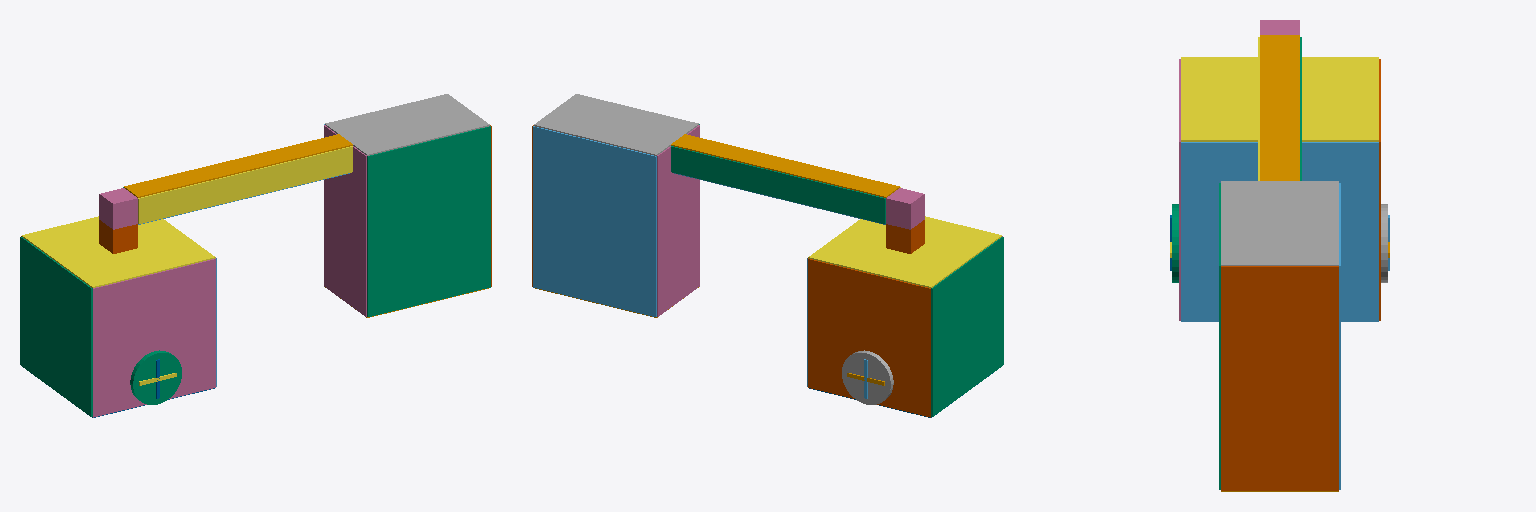
--- What the picture shows (computed from the rendered views, not written in the file) ---
The picture shows the robot from 3 angles, left to right: view 1: azimuth 30°, elevation 25°; view 2: azimuth 150°, elevation 25°; view 3: azimuth 270°, elevation 25°; orthographic projection.
Robot: robot — 36 links, 35 joints (4 continuous, 31 fixed); root link body; default pose: all joints at 0.
Visible links, largest first — view 1: hand_sensor_0_right, body_sensor_0_right, body_sensor_0_stop, body_sensor_0_top, hand_sensor_0_stop, arm_sensor_0_right, hand_sensor_0_top, arm_sensor_0_top, right_wheel, joint_2, joint_1; view 2: hand_sensor_0_left, body_sensor_0_left, body_sensor_0_stop, body_sensor_0_top, hand_sensor_0_stop, arm_sensor_0_left, hand_sensor_0_top, arm_sensor_0_top, left_wheel, joint_2, joint_1; view 3: hand_sensor_0_start, body_sensor_0_start, body_sensor_0_top, hand_sensor_0_top, arm_sensor_0_top, hand_sensor_0_left, hand_sensor_0_right, joint_2, left_wheel, right_wheel.
Boxes of the visible links, box(x1,y1,x2,y2) form: hand_sensor_0_right: box(367, 126, 490, 316); body_sensor_0_right: box(93, 258, 215, 417); body_sensor_0_stop: box(20, 237, 92, 416); body_sensor_0_top: box(22, 216, 215, 287); hand_sensor_0_stop: box(324, 125, 366, 316); arm_sensor_0_right: box(138, 146, 352, 223); hand_sensor_0_top: box(325, 94, 489, 155); arm_sensor_0_top: box(124, 134, 352, 197); right_wheel: box(130, 350, 181, 404); joint_2: box(99, 188, 137, 229); joint_1: box(99, 220, 137, 253); hand_sensor_0_left: box(533, 126, 656, 316); body_sensor_0_left: box(808, 258, 930, 417); body_sensor_0_stop: box(931, 237, 1003, 416); body_sensor_0_top: box(808, 216, 1001, 287); hand_sensor_0_stop: box(657, 125, 699, 316); arm_sensor_0_left: box(671, 146, 885, 223); hand_sensor_0_top: box(534, 94, 698, 155); arm_sensor_0_top: box(671, 134, 899, 197); left_wheel: box(842, 350, 893, 404); joint_2: box(886, 188, 924, 229); joint_1: box(886, 220, 924, 253); hand_sensor_0_start: box(1221, 266, 1338, 490); body_sensor_0_start: box(1181, 142, 1378, 321); body_sensor_0_top: box(1181, 57, 1378, 141); hand_sensor_0_top: box(1221, 181, 1338, 265); arm_sensor_0_top: box(1260, 35, 1299, 180); hand_sensor_0_left: box(1339, 183, 1340, 489); hand_sensor_0_right: box(1219, 183, 1220, 489); joint_2: box(1260, 20, 1299, 34); left_wheel: box(1381, 204, 1387, 282); right_wheel: box(1172, 204, 1178, 282).
Bounding box of the posed robot: 3.37 × 1.12 × 1.42 m (x, y, z).
Geometry: primitives only (box / cylinder / sphere), no mesh files.

URDF robot description (robot):
<?xml version="1.0"?>
    <robot name="robot">


    <!-- body -->
    <link name="body">
        <inertial>
            <origin xyz="0 0 0" rpy="0 0 0"/>
            <mass value="100"/>
            <inertia ixx="15" ixy="0" ixz="0" iyy="15" iyz="0" izz="15"/>
        </inertial>
        <visual>
            <origin xyz="0 0 0" rpy="0 0 0"/>
            <geometry>
                <box size="1 1 1"/>
            </geometry>
        </visual>
        <collision>
            <origin xyz="0 0 0" rpy="0 0 0"/>
            <geometry>
                <box size="1 1 1"/>
            </geometry>
        </collision>
    </link>


    <!-- body_sensor_0_start -->
    <link name="body_sensor_0_start">
        <inertial>
            <origin xyz="0 0 0" rpy="0 0 0"/>
            <mass value="0"/>
            <inertia ixx="0" ixy="0" ixz="0" iyy="0" iyz="0" izz="0"/>
        </inertial>
        <visual>
            <origin xyz="0 0 0" rpy="0 0 0"/>
            <geometry>
                <box size="0.02 1 1"/>
            </geometry>
        </visual>
        <collision>
            <origin xyz="0 0 0" rpy="0 0 0"/>
            <geometry>
                <box size="0.02 1 1"/>
            </geometry>
        </collision>
    </link>
    <!-- Joint: body, body_sensor_0_start -->
    <joint name="body_body_sensor_0_start_joint" type="fixed">
        <parent link="body"/>
        <child link="body_sensor_0_start"/>
        <origin xyz="0.5 0 0"
                rpy="0 0 0"/>
        <axis xyz="0 0 1"/>
        
    </joint>


    <!-- body_sensor_0_stop -->
    <link name="body_sensor_0_stop">
        <inertial>
            <origin xyz="0 0 0" rpy="0 0 0"/>
            <mass value="0"/>
            <inertia ixx="0" ixy="0" ixz="0" iyy="0" iyz="0" izz="0"/>
        </inertial>
        <visual>
            <origin xyz="0 0 0" rpy="0 0 0"/>
            <geometry>
                <box size="0.02 1 1"/>
            </geometry>
        </visual>
        <collision>
            <origin xyz="0 0 0" rpy="0 0 0"/>
            <geometry>
                <box size="0.02 1 1"/>
            </geometry>
        </collision>
    </link>
    <!-- Joint: body, body_sensor_0_stop -->
    <joint name="body_body_sensor_0_stop_joint" type="fixed">
        <parent link="body"/>
        <child link="body_sensor_0_stop"/>
        <origin xyz="-0.5 0 0"
                rpy="0 0 0"/>
        <axis xyz="0 0 1"/>
        
    </joint>


    <!-- body_sensor_0_top -->
    <link name="body_sensor_0_top">
        <inertial>
            <origin xyz="0 0 0" rpy="0 0 0"/>
            <mass value="0"/>
            <inertia ixx="0" ixy="0" ixz="0" iyy="0" iyz="0" izz="0"/>
        </inertial>
        <visual>
            <origin xyz="0 0 0" rpy="0 0 0"/>
            <geometry>
                <box size="1.0 1 0.02"/>
            </geometry>
        </visual>
        <collision>
            <origin xyz="0 0 0" rpy="0 0 0"/>
            <geometry>
                <box size="1.0 1 0.02"/>
            </geometry>
        </collision>
    </link>
    <!-- Joint: body, body_sensor_0_top -->
    <joint name="body_body_sensor_0_top_joint" type="fixed">
        <parent link="body"/>
        <child link="body_sensor_0_top"/>
        <origin xyz="0 0 0.5"
                rpy="0 0 0"/>
        <axis xyz="0 0 1"/>
        
    </joint>


    <!-- body_sensor_0_bottom -->
    <link name="body_sensor_0_bottom">
        <inertial>
            <origin xyz="0 0 0" rpy="0 0 0"/>
            <mass value="0"/>
            <inertia ixx="0" ixy="0" ixz="0" iyy="0" iyz="0" izz="0"/>
        </inertial>
        <visual>
            <origin xyz="0 0 0" rpy="0 0 0"/>
            <geometry>
                <box size="1.0 1 0.02"/>
            </geometry>
        </visual>
        <collision>
            <origin xyz="0 0 0" rpy="0 0 0"/>
            <geometry>
                <box size="1.0 1 0.02"/>
            </geometry>
        </collision>
    </link>
    <!-- Joint: body, body_sensor_0_bottom -->
    <joint name="body_body_sensor_0_bottom_joint" type="fixed">
        <parent link="body"/>
        <child link="body_sensor_0_bottom"/>
        <origin xyz="0 0 -0.5"
                rpy="0 0 0"/>
        <axis xyz="0 0 1"/>
        
    </joint>


    <!-- body_sensor_0_left -->
    <link name="body_sensor_0_left">
        <inertial>
            <origin xyz="0 0 0" rpy="0 0 0"/>
            <mass value="0"/>
            <inertia ixx="0" ixy="0" ixz="0" iyy="0" iyz="0" izz="0"/>
        </inertial>
        <visual>
            <origin xyz="0 0 0" rpy="0 0 0"/>
            <geometry>
                <box size="1.0 0.02 1"/>
            </geometry>
        </visual>
        <collision>
            <origin xyz="0 0 0" rpy="0 0 0"/>
            <geometry>
                <box size="1.0 0.02 1"/>
            </geometry>
        </collision>
    </link>
    <!-- Joint: body, body_sensor_0_left -->
    <joint name="body_body_sensor_0_left_joint" type="fixed">
        <parent link="body"/>
        <child link="body_sensor_0_left"/>
        <origin xyz="0 0.5 0"
                rpy="0 0 0"/>
        <axis xyz="0 0 1"/>
        
    </joint>


    <!-- body_sensor_0_right -->
    <link name="body_sensor_0_right">
        <inertial>
            <origin xyz="0 0 0" rpy="0 0 0"/>
            <mass value="0"/>
            <inertia ixx="0" ixy="0" ixz="0" iyy="0" iyz="0" izz="0"/>
        </inertial>
        <visual>
            <origin xyz="0 0 0" rpy="0 0 0"/>
            <geometry>
                <box size="1.0 0.02 1"/>
            </geometry>
        </visual>
        <collision>
            <origin xyz="0 0 0" rpy="0 0 0"/>
            <geometry>
                <box size="1.0 0.02 1"/>
            </geometry>
        </collision>
    </link>
    <!-- Joint: body, body_sensor_0_right -->
    <joint name="body_body_sensor_0_right_joint" type="fixed">
        <parent link="body"/>
        <child link="body_sensor_0_right"/>
        <origin xyz="0 -0.5 0"
                rpy="0 0 0"/>
        <axis xyz="0 0 1"/>
        
    </joint>


    <!-- left_wheel -->
    <link name="left_wheel">
        <inertial>
            <origin xyz="0 0 0" rpy="0 0 0"/>
            <mass value="0"/>
            <inertia ixx="0" ixy="0" ixz="0" iyy="0" iyz="0" izz="0"/>
        </inertial>
        <visual>
            <origin xyz="0 0 0" rpy="0 0 0"/>
            <geometry>
                <cylinder radius="0.2" length="0.1"/>
            </geometry>
        </visual>
        <collision>
            <origin xyz="0 0 0" rpy="0 0 0"/>
            <geometry>
                <cylinder radius="0.2" length="0.1"/>
            </geometry>
        </collision>
    </link>
    <!-- Joint: body, left_wheel -->
    <joint name="body_left_wheel_joint" type="continuous">
        <parent link="body"/>
        <child link="left_wheel"/>
        <origin xyz="0 0.5 -0.3"
                rpy="1.5708 0 0"/>
        <axis xyz="0 0 1"/>
        <limit lower="0" upper="0" effort="0" velocity="0"/>
    </joint>


    <!-- left_spoke_1 -->
    <link name="left_spoke_1">
        <inertial>
            <origin xyz="0 0 0" rpy="0 0 0"/>
            <mass value="0"/>
            <inertia ixx="0" ixy="0" ixz="0" iyy="0" iyz="0" izz="0"/>
        </inertial>
        <visual>
            <origin xyz="0 0 0" rpy="0 0 0"/>
            <geometry>
                <box size="0.3 0.03 0.1"/>
            </geometry>
        </visual>
        <collision>
            <origin xyz="0 0 0" rpy="0 0 0"/>
            <geometry>
                <box size="0.3 0.03 0.1"/>
            </geometry>
        </collision>
    </link>
    <!-- Joint: left_wheel, left_spoke_1 -->
    <joint name="left_wheel_left_spoke_1_joint" type="fixed">
        <parent link="left_wheel"/>
        <child link="left_spoke_1"/>
        <origin xyz="0 0 -0.01"
                rpy="0 0 0"/>
        <axis xyz="0 0 1"/>
        
    </joint>


    <!-- left_spoke_2 -->
    <link name="left_spoke_2">
        <inertial>
            <origin xyz="0 0 0" rpy="0 0 0"/>
            <mass value="0"/>
            <inertia ixx="0" ixy="0" ixz="0" iyy="0" iyz="0" izz="0"/>
        </inertial>
        <visual>
            <origin xyz="0 0 0" rpy="0 0 0"/>
            <geometry>
                <box size="0.03 0.3 0.1"/>
            </geometry>
        </visual>
        <collision>
            <origin xyz="0 0 0" rpy="0 0 0"/>
            <geometry>
                <box size="0.03 0.3 0.1"/>
            </geometry>
        </collision>
    </link>
    <!-- Joint: left_wheel, left_spoke_2 -->
    <joint name="left_wheel_left_spoke_2_joint" type="fixed">
        <parent link="left_wheel"/>
        <child link="left_spoke_2"/>
        <origin xyz="0 0 -0.01"
                rpy="0 0 0"/>
        <axis xyz="0 0 1"/>
        
    </joint>


    <!-- right_wheel -->
    <link name="right_wheel">
        <inertial>
            <origin xyz="0 0 0" rpy="0 0 0"/>
            <mass value="0"/>
            <inertia ixx="0" ixy="0" ixz="0" iyy="0" iyz="0" izz="0"/>
        </inertial>
        <visual>
            <origin xyz="0 0 0" rpy="0 0 0"/>
            <geometry>
                <cylinder radius="0.2" length="0.1"/>
            </geometry>
        </visual>
        <collision>
            <origin xyz="0 0 0" rpy="0 0 0"/>
            <geometry>
                <cylinder radius="0.2" length="0.1"/>
            </geometry>
        </collision>
    </link>
    <!-- Joint: body, right_wheel -->
    <joint name="body_right_wheel_joint" type="continuous">
        <parent link="body"/>
        <child link="right_wheel"/>
        <origin xyz="0 -0.5 -0.3"
                rpy="1.5708 0 0"/>
        <axis xyz="0 0 1"/>
        <limit lower="0" upper="0" effort="0" velocity="0"/>
    </joint>


    <!-- right_spoke_1 -->
    <link name="right_spoke_1">
        <inertial>
            <origin xyz="0 0 0" rpy="0 0 0"/>
            <mass value="0"/>
            <inertia ixx="0" ixy="0" ixz="0" iyy="0" iyz="0" izz="0"/>
        </inertial>
        <visual>
            <origin xyz="0 0 0" rpy="0 0 0"/>
            <geometry>
                <box size="0.3 0.03 0.1"/>
            </geometry>
        </visual>
        <collision>
            <origin xyz="0 0 0" rpy="0 0 0"/>
            <geometry>
                <box size="0.3 0.03 0.1"/>
            </geometry>
        </collision>
    </link>
    <!-- Joint: right_wheel, right_spoke_1 -->
    <joint name="right_wheel_right_spoke_1_joint" type="fixed">
        <parent link="right_wheel"/>
        <child link="right_spoke_1"/>
        <origin xyz="0 0 0.01"
                rpy="0 0 0"/>
        <axis xyz="0 0 1"/>
        
    </joint>


    <!-- right_spoke_2 -->
    <link name="right_spoke_2">
        <inertial>
            <origin xyz="0 0 0" rpy="0 0 0"/>
            <mass value="0"/>
            <inertia ixx="0" ixy="0" ixz="0" iyy="0" iyz="0" izz="0"/>
        </inertial>
        <visual>
            <origin xyz="0 0 0" rpy="0 0 0"/>
            <geometry>
                <box size="0.03 0.3 0.1"/>
            </geometry>
        </visual>
        <collision>
            <origin xyz="0 0 0" rpy="0 0 0"/>
            <geometry>
                <box size="0.03 0.3 0.1"/>
            </geometry>
        </collision>
    </link>
    <!-- Joint: right_wheel, right_spoke_2 -->
    <joint name="right_wheel_right_spoke_2_joint" type="fixed">
        <parent link="right_wheel"/>
        <child link="right_spoke_2"/>
        <origin xyz="0 0 0.01"
                rpy="0 0 0"/>
        <axis xyz="0 0 1"/>
        
    </joint>


    <!-- joint_1 -->
    <link name="joint_1">
        <inertial>
            <origin xyz="0 0 0" rpy="0 0 0"/>
            <mass value="2"/>
            <inertia ixx="0.01" ixy="0" ixz="0" iyy="0.01" iyz="0" izz="0.01"/>
        </inertial>
        <visual>
            <origin xyz="0 0 0" rpy="0 0 0"/>
            <geometry>
                <box size="0.2 0.2 0.2"/>
            </geometry>
        </visual>
        <collision>
            <origin xyz="0 0 0" rpy="0 0 0"/>
            <geometry>
                <box size="0.2 0.2 0.2"/>
            </geometry>
        </collision>
    </link>
    <!-- Joint: body, joint_1 -->
    <joint name="body_joint_1_joint" type="continuous">
        <parent link="body"/>
        <child link="joint_1"/>
        <origin xyz="0 0 0.6"
                rpy="0 0 0"/>
        <axis xyz="0 0 1"/>
        <limit lower="-0.7853981633974483" upper="0.7853981633974483" effort="999" velocity="999"/>
    </joint>


    <!-- joint_2 -->
    <link name="joint_2">
        <inertial>
            <origin xyz="0 0 0" rpy="0 0 0"/>
            <mass value="2"/>
            <inertia ixx="0.01" ixy="0" ixz="0" iyy="0.01" iyz="0" izz="0.01"/>
        </inertial>
        <visual>
            <origin xyz="0 0 0" rpy="0 0 0"/>
            <geometry>
                <box size="0.2 0.2 0.2"/>
            </geometry>
        </visual>
        <collision>
            <origin xyz="0 0 0" rpy="0 0 0"/>
            <geometry>
                <box size="0.2 0.2 0.2"/>
            </geometry>
        </collision>
    </link>
    <!-- Joint: joint_1, joint_2 -->
    <joint name="joint_1_joint_2_joint" type="continuous">
        <parent link="joint_1"/>
        <child link="joint_2"/>
        <origin xyz="0 0 0.2"
                rpy="0 0 0"/>
        <axis xyz="0 1 0"/>
        <limit lower="-1.5707963267948966" upper="0" effort="999" velocity="999"/>
    </joint>


    <!-- arm -->
    <link name="arm">
        <inertial>
            <origin xyz="0 0 0" rpy="0 0 0"/>
            <mass value="2"/>
            <inertia ixx="0.01" ixy="0" ixz="0" iyy="1.25" iyz="0" izz="1.25"/>
        </inertial>
        <visual>
            <origin xyz="0 0 0" rpy="0 0 0"/>
            <geometry>
                <box size="1.75 0.2 0.2"/>
            </geometry>
        </visual>
        <collision>
            <origin xyz="0 0 0" rpy="0 0 0"/>
            <geometry>
                <box size="1.75 0.2 0.2"/>
            </geometry>
        </collision>
    </link>


    <!-- arm_sensor_0_top -->
    <link name="arm_sensor_0_top">
        <inertial>
            <origin xyz="0 0 0" rpy="0 0 0"/>
            <mass value="0"/>
            <inertia ixx="0" ixy="0" ixz="0" iyy="0" iyz="0" izz="0"/>
        </inertial>
        <visual>
            <origin xyz="0 0 0" rpy="0 0 0"/>
            <geometry>
                <box size="1.75 0.2 0.02"/>
            </geometry>
        </visual>
        <collision>
            <origin xyz="0 0 0" rpy="0 0 0"/>
            <geometry>
                <box size="1.75 0.2 0.02"/>
            </geometry>
        </collision>
    </link>
    <!-- Joint: arm, arm_sensor_0_top -->
    <joint name="arm_arm_sensor_0_top_joint" type="fixed">
        <parent link="arm"/>
        <child link="arm_sensor_0_top"/>
        <origin xyz="0 0 0.1"
                rpy="0 0 0"/>
        <axis xyz="0 1 0"/>
        
    </joint>


    <!-- arm_sensor_0_bottom -->
    <link name="arm_sensor_0_bottom">
        <inertial>
            <origin xyz="0 0 0" rpy="0 0 0"/>
            <mass value="0"/>
            <inertia ixx="0" ixy="0" ixz="0" iyy="0" iyz="0" izz="0"/>
        </inertial>
        <visual>
            <origin xyz="0 0 0" rpy="0 0 0"/>
            <geometry>
                <box size="1.75 0.2 0.02"/>
            </geometry>
        </visual>
        <collision>
            <origin xyz="0 0 0" rpy="0 0 0"/>
            <geometry>
                <box size="1.75 0.2 0.02"/>
            </geometry>
        </collision>
    </link>
    <!-- Joint: arm, arm_sensor_0_bottom -->
    <joint name="arm_arm_sensor_0_bottom_joint" type="fixed">
        <parent link="arm"/>
        <child link="arm_sensor_0_bottom"/>
        <origin xyz="0 0 -0.1"
                rpy="0 0 0"/>
        <axis xyz="0 1 0"/>
        
    </joint>


    <!-- arm_sensor_0_left -->
    <link name="arm_sensor_0_left">
        <inertial>
            <origin xyz="0 0 0" rpy="0 0 0"/>
            <mass value="0"/>
            <inertia ixx="0" ixy="0" ixz="0" iyy="0" iyz="0" izz="0"/>
        </inertial>
        <visual>
            <origin xyz="0 0 0" rpy="0 0 0"/>
            <geometry>
                <box size="1.75 0.02 0.2"/>
            </geometry>
        </visual>
        <collision>
            <origin xyz="0 0 0" rpy="0 0 0"/>
            <geometry>
                <box size="1.75 0.02 0.2"/>
            </geometry>
        </collision>
    </link>
    <!-- Joint: arm, arm_sensor_0_left -->
    <joint name="arm_arm_sensor_0_left_joint" type="fixed">
        <parent link="arm"/>
        <child link="arm_sensor_0_left"/>
        <origin xyz="0 0.1 0"
                rpy="0 0 0"/>
        <axis xyz="0 1 0"/>
        
    </joint>


    <!-- arm_sensor_0_right -->
    <link name="arm_sensor_0_right">
        <inertial>
            <origin xyz="0 0 0" rpy="0 0 0"/>
            <mass value="0"/>
            <inertia ixx="0" ixy="0" ixz="0" iyy="0" iyz="0" izz="0"/>
        </inertial>
        <visual>
            <origin xyz="0 0 0" rpy="0 0 0"/>
            <geometry>
                <box size="1.75 0.02 0.2"/>
            </geometry>
        </visual>
        <collision>
            <origin xyz="0 0 0" rpy="0 0 0"/>
            <geometry>
                <box size="1.75 0.02 0.2"/>
            </geometry>
        </collision>
    </link>
    <!-- Joint: arm, arm_sensor_0_right -->
    <joint name="arm_arm_sensor_0_right_joint" type="fixed">
        <parent link="arm"/>
        <child link="arm_sensor_0_right"/>
        <origin xyz="0 -0.1 0"
                rpy="0 0 0"/>
        <axis xyz="0 1 0"/>
        
    </joint>
    <!-- Joint: joint_2, arm -->
    <joint name="joint_2_arm_joint" type="fixed">
        <parent link="joint_2"/>
        <child link="arm"/>
        <origin xyz="0.975 0 0"
                rpy="0 0 0"/>
        <axis xyz="0 1 0"/>
        
    </joint>


    <!-- hand -->
    <link name="hand">
        <inertial>
            <origin xyz="0 0 0" rpy="0 0 0"/>
            <mass value="2"/>
            <inertia ixx="0.05" ixy="0.05" ixz="0.05" iyy="0.05" iyz="0.05" izz="0.05"/>
        </inertial>
        <visual>
            <origin xyz="0 0 0" rpy="0 0 0"/>
            <geometry>
                <box size="1 0.6000000000000001 1.25"/>
            </geometry>
        </visual>
        <collision>
            <origin xyz="0 0 0" rpy="0 0 0"/>
            <geometry>
                <box size="1 0.6000000000000001 1.25"/>
            </geometry>
        </collision>
    </link>


    <!-- hand_sensor_0_start -->
    <link name="hand_sensor_0_start">
        <inertial>
            <origin xyz="0 0 0" rpy="0 0 0"/>
            <mass value="0"/>
            <inertia ixx="0" ixy="0" ixz="0" iyy="0" iyz="0" izz="0"/>
        </inertial>
        <visual>
            <origin xyz="0 0 0" rpy="0 0 0"/>
            <geometry>
                <box size="0.02 0.6000000000000001 1.25"/>
            </geometry>
        </visual>
        <collision>
            <origin xyz="0 0 0" rpy="0 0 0"/>
            <geometry>
                <box size="0.02 0.6000000000000001 1.25"/>
            </geometry>
        </collision>
    </link>
    <!-- Joint: hand, hand_sensor_0_start -->
    <joint name="hand_hand_sensor_0_start_joint" type="fixed">
        <parent link="hand"/>
        <child link="hand_sensor_0_start"/>
        <origin xyz="0.5 0 0"
                rpy="0 0 0"/>
        <axis xyz="0 1 0"/>
        
    </joint>


    <!-- hand_sensor_0_stop -->
    <link name="hand_sensor_0_stop">
        <inertial>
            <origin xyz="0 0 0" rpy="0 0 0"/>
            <mass value="0"/>
            <inertia ixx="0" ixy="0" ixz="0" iyy="0" iyz="0" izz="0"/>
        </inertial>
        <visual>
            <origin xyz="0 0 0" rpy="0 0 0"/>
            <geometry>
                <box size="0.02 0.6000000000000001 1.25"/>
            </geometry>
        </visual>
        <collision>
            <origin xyz="0 0 0" rpy="0 0 0"/>
            <geometry>
                <box size="0.02 0.6000000000000001 1.25"/>
            </geometry>
        </collision>
    </link>
    <!-- Joint: hand, hand_sensor_0_stop -->
    <joint name="hand_hand_sensor_0_stop_joint" type="fixed">
        <parent link="hand"/>
        <child link="hand_sensor_0_stop"/>
        <origin xyz="-0.5 0 0"
                rpy="0 0 0"/>
        <axis xyz="0 1 0"/>
        
    </joint>


    <!-- hand_sensor_0_top -->
    <link name="hand_sensor_0_top">
        <inertial>
            <origin xyz="0 0 0" rpy="0 0 0"/>
            <mass value="0"/>
            <inertia ixx="0" ixy="0" ixz="0" iyy="0" iyz="0" izz="0"/>
        </inertial>
        <visual>
            <origin xyz="0 0 0" rpy="0 0 0"/>
            <geometry>
                <box size="1.0 0.6000000000000001 0.02"/>
            </geometry>
        </visual>
        <collision>
            <origin xyz="0 0 0" rpy="0 0 0"/>
            <geometry>
                <box size="1.0 0.6000000000000001 0.02"/>
            </geometry>
        </collision>
    </link>
    <!-- Joint: hand, hand_sensor_0_top -->
    <joint name="hand_hand_sensor_0_top_joint" type="fixed">
        <parent link="hand"/>
        <child link="hand_sensor_0_top"/>
        <origin xyz="0 0 0.625"
                rpy="0 0 0"/>
        <axis xyz="0 1 0"/>
        
    </joint>


    <!-- hand_sensor_0_bottom -->
    <link name="hand_sensor_0_bottom">
        <inertial>
            <origin xyz="0 0 0" rpy="0 0 0"/>
            <mass value="0"/>
            <inertia ixx="0" ixy="0" ixz="0" iyy="0" iyz="0" izz="0"/>
        </inertial>
        <visual>
            <origin xyz="0 0 0" rpy="0 0 0"/>
            <geometry>
                <box size="1.0 0.6000000000000001 0.02"/>
            </geometry>
        </visual>
        <collision>
            <origin xyz="0 0 0" rpy="0 0 0"/>
            <geometry>
                <box size="1.0 0.6000000000000001 0.02"/>
            </geometry>
        </collision>
    </link>
    <!-- Joint: hand, hand_sensor_0_bottom -->
    <joint name="hand_hand_sensor_0_bottom_joint" type="fixed">
        <parent link="hand"/>
        <child link="hand_sensor_0_bottom"/>
        <origin xyz="0 0 -0.625"
                rpy="0 0 0"/>
        <axis xyz="0 1 0"/>
        
    </joint>


    <!-- hand_sensor_0_left -->
    <link name="hand_sensor_0_left">
        <inertial>
            <origin xyz="0 0 0" rpy="0 0 0"/>
            <mass value="0"/>
            <inertia ixx="0" ixy="0" ixz="0" iyy="0" iyz="0" izz="0"/>
        </inertial>
        <visual>
            <origin xyz="0 0 0" rpy="0 0 0"/>
            <geometry>
                <box size="1.0 0.02 1.25"/>
            </geometry>
        </visual>
        <collision>
            <origin xyz="0 0 0" rpy="0 0 0"/>
            <geometry>
                <box size="1.0 0.02 1.25"/>
            </geometry>
        </collision>
    </link>
    <!-- Joint: hand, hand_sensor_0_left -->
    <joint name="hand_hand_sensor_0_left_joint" type="fixed">
        <parent link="hand"/>
        <child link="hand_sensor_0_left"/>
        <origin xyz="0 0.30000000000000004 0"
                rpy="0 0 0"/>
        <axis xyz="0 1 0"/>
        
    </joint>


    <!-- hand_sensor_0_right -->
    <link name="hand_sensor_0_right">
        <inertial>
            <origin xyz="0 0 0" rpy="0 0 0"/>
            <mass value="0"/>
            <inertia ixx="0" ixy="0" ixz="0" iyy="0" iyz="0" izz="0"/>
        </inertial>
        <visual>
            <origin xyz="0 0 0" rpy="0 0 0"/>
            <geometry>
                <box size="1.0 0.02 1.25"/>
            </geometry>
        </visual>
        <collision>
            <origin xyz="0 0 0" rpy="0 0 0"/>
            <geometry>
                <box size="1.0 0.02 1.25"/>
            </geometry>
        </collision>
    </link>
    <!-- Joint: hand, hand_sensor_0_right -->
    <joint name="hand_hand_sensor_0_right_joint" type="fixed">
        <parent link="hand"/>
        <child link="hand_sensor_0_right"/>
        <origin xyz="0 -0.30000000000000004 0"
                rpy="0 0 0"/>
        <axis xyz="0 1 0"/>
        
    </joint>
    <!-- Joint: arm, hand -->
    <joint name="arm_hand_joint" type="fixed">
        <parent link="arm"/>
        <child link="hand"/>
        <origin xyz="1.375 0 -0.525"
                rpy="0 0 0"/>
        <axis xyz="0 1 0"/>
        
    </joint>


    <!-- body_face_front_0 -->
    <link name="body_face_front_0">
        <inertial>
            <origin xyz="0 0 0" rpy="0 0 0"/>
            <mass value="0"/>
            <inertia ixx="0.05" ixy="0.05" ixz="0.05" iyy="0.05" iyz="0.05" izz="0.05"/>
        </inertial>
        <visual>
            <origin xyz="0 0 0" rpy="0 0 0"/>
            <geometry>
                <box size="0.002 0.1111111111111111 0.1111111111111111"/>
            </geometry>
        </visual>
        <collision>
            <origin xyz="0 0 0" rpy="0 0 0"/>
            <geometry>
                <box size="0.002 0.1111111111111111 0.1111111111111111"/>
            </geometry>
        </collision>
    </link>
    <!-- Joint: body, body_face_front_0 -->
    <joint name="body_body_face_front_0_joint" type="fixed">
        <parent link="body"/>
        <child link="body_face_front_0"/>
        <origin xyz="0.501 -0.33333333333333337 0.11111111111111116"
                rpy="0 0 0"/>
        <axis xyz="0 0 1"/>
        
    </joint>


    <!-- body_face_front_1 -->
    <link name="body_face_front_1">
        <inertial>
            <origin xyz="0 0 0" rpy="0 0 0"/>
            <mass value="0"/>
            <inertia ixx="0.05" ixy="0.05" ixz="0.05" iyy="0.05" iyz="0.05" izz="0.05"/>
        </inertial>
        <visual>
            <origin xyz="0 0 0" rpy="0 0 0"/>
            <geometry>
                <box size="0.002 0.1111111111111111 0.1111111111111111"/>
            </geometry>
        </visual>
        <collision>
            <origin xyz="0 0 0" rpy="0 0 0"/>
            <geometry>
                <box size="0.002 0.1111111111111111 0.1111111111111111"/>
            </geometry>
        </collision>
    </link>
    <!-- Joint: body, body_face_front_1 -->
    <joint name="body_body_face_front_1_joint" type="fixed">
        <parent link="body"/>
        <child link="body_face_front_1"/>
        <origin xyz="0.501 -0.2222222222222222 0.2222222222222222"
                rpy="0 0 0"/>
        <axis xyz="0 0 1"/>
        
    </joint>


    <!-- body_face_front_2 -->
    <link name="body_face_front_2">
        <inertial>
            <origin xyz="0 0 0" rpy="0 0 0"/>
            <mass value="0"/>
            <inertia ixx="0.05" ixy="0.05" ixz="0.05" iyy="0.05" iyz="0.05" izz="0.05"/>
        </inertial>
        <visual>
            <origin xyz="0 0 0" rpy="0 0 0"/>
            <geometry>
                <box size="0.002 0.1111111111111111 0.1111111111111111"/>
            </geometry>
        </visual>
        <collision>
            <origin xyz="0 0 0" rpy="0 0 0"/>
            <geometry>
                <box size="0.002 0.1111111111111111 0.1111111111111111"/>
            </geometry>
        </collision>
    </link>
    <!-- Joint: body, body_face_front_2 -->
    <joint name="body_body_face_front_2_joint" type="fixed">
        <parent link="body"/>
        <child link="body_face_front_2"/>
        <origin xyz="0.501 -0.1111111111111111 0.11111111111111116"
                rpy="0 0 0"/>
        <axis xyz="0 0 1"/>
        
    </joint>


    <!-- body_face_front_3 -->
    <link name="body_face_front_3">
        <inertial>
            <origin xyz="0 0 0" rpy="0 0 0"/>
            <mass value="0"/>
            <inertia ixx="0.05" ixy="0.05" ixz="0.05" iyy="0.05" iyz="0.05" izz="0.05"/>
        </inertial>
        <visual>
            <origin xyz="0 0 0" rpy="0 0 0"/>
            <geometry>
                <box size="0.002 0.1111111111111111 0.1111111111111111"/>
            </geometry>
        </visual>
        <collision>
            <origin xyz="0 0 0" rpy="0 0 0"/>
            <geometry>
                <box size="0.002 0.1111111111111111 0.1111111111111111"/>
            </geometry>
        </collision>
    </link>
    <!-- Joint: body, body_face_front_3 -->
    <joint name="body_body_face_front_3_joint" type="fixed">
        <parent link="body"/>
        <child link="body_face_front_3"/>
        <origin xyz="0.501 -0.1111111111111111 -0.2222222222222222"
                rpy="0 0 0"/>
        <axis xyz="0 0 1"/>
        
    </joint>


    <!-- body_face_front_4 -->
    <link name="body_face_front_4">
        <inertial>
            <origin xyz="0 0 0" rpy="0 0 0"/>
            <mass value="0"/>
            <inertia ixx="0.05" ixy="0.05" ixz="0.05" iyy="0.05" iyz="0.05" izz="0.05"/>
        </inertial>
        <visual>
            <origin xyz="0 0 0" rpy="0 0 0"/>
            <geometry>
                <box size="0.002 0.1111111111111111 0.1111111111111111"/>
            </geometry>
        </visual>
        <collision>
            <origin xyz="0 0 0" rpy="0 0 0"/>
            <geometry>
                <box size="0.002 0.1111111111111111 0.1111111111111111"/>
            </geometry>
        </collision>
    </link>
    <!-- Joint: body, body_face_front_4 -->
    <joint name="body_body_face_front_4_joint" type="fixed">
        <parent link="body"/>
        <child link="body_face_front_4"/>
        <origin xyz="0.501 0.0 -0.2222222222222222"
                rpy="0 0 0"/>
        <axis xyz="0 0 1"/>
        
    </joint>


    <!-- body_face_front_5 -->
    <link name="body_face_front_5">
        <inertial>
            <origin xyz="0 0 0" rpy="0 0 0"/>
            <mass value="0"/>
            <inertia ixx="0.05" ixy="0.05" ixz="0.05" iyy="0.05" iyz="0.05" izz="0.05"/>
        </inertial>
        <visual>
            <origin xyz="0 0 0" rpy="0 0 0"/>
            <geometry>
                <box size="0.002 0.1111111111111111 0.1111111111111111"/>
            </geometry>
        </visual>
        <collision>
            <origin xyz="0 0 0" rpy="0 0 0"/>
            <geometry>
                <box size="0.002 0.1111111111111111 0.1111111111111111"/>
            </geometry>
        </collision>
    </link>
    <!-- Joint: body, body_face_front_5 -->
    <joint name="body_body_face_front_5_joint" type="fixed">
        <parent link="body"/>
        <child link="body_face_front_5"/>
        <origin xyz="0.501 0.11111111111111116 0.11111111111111116"
                rpy="0 0 0"/>
        <axis xyz="0 0 1"/>
        
    </joint>


    <!-- body_face_front_6 -->
    <link name="body_face_front_6">
        <inertial>
            <origin xyz="0 0 0" rpy="0 0 0"/>
            <mass value="0"/>
            <inertia ixx="0.05" ixy="0.05" ixz="0.05" iyy="0.05" iyz="0.05" izz="0.05"/>
        </inertial>
        <visual>
            <origin xyz="0 0 0" rpy="0 0 0"/>
            <geometry>
                <box size="0.002 0.1111111111111111 0.1111111111111111"/>
            </geometry>
        </visual>
        <collision>
            <origin xyz="0 0 0" rpy="0 0 0"/>
            <geometry>
                <box size="0.002 0.1111111111111111 0.1111111111111111"/>
            </geometry>
        </collision>
    </link>
    <!-- Joint: body, body_face_front_6 -->
    <joint name="body_body_face_front_6_joint" type="fixed">
        <parent link="body"/>
        <child link="body_face_front_6"/>
        <origin xyz="0.501 0.11111111111111116 -0.2222222222222222"
                rpy="0 0 0"/>
        <axis xyz="0 0 1"/>
        
    </joint>


    <!-- body_face_front_7 -->
    <link name="body_face_front_7">
        <inertial>
            <origin xyz="0 0 0" rpy="0 0 0"/>
            <mass value="0"/>
            <inertia ixx="0.05" ixy="0.05" ixz="0.05" iyy="0.05" iyz="0.05" izz="0.05"/>
        </inertial>
        <visual>
            <origin xyz="0 0 0" rpy="0 0 0"/>
            <geometry>
                <box size="0.002 0.1111111111111111 0.1111111111111111"/>
            </geometry>
        </visual>
        <collision>
            <origin xyz="0 0 0" rpy="0 0 0"/>
            <geometry>
                <box size="0.002 0.1111111111111111 0.1111111111111111"/>
            </geometry>
        </collision>
    </link>
    <!-- Joint: body, body_face_front_7 -->
    <joint name="body_body_face_front_7_joint" type="fixed">
        <parent link="body"/>
        <child link="body_face_front_7"/>
        <origin xyz="0.501 0.2222222222222222 0.2222222222222222"
                rpy="0 0 0"/>
        <axis xyz="0 0 1"/>
        
    </joint>


    <!-- body_face_front_8 -->
    <link name="body_face_front_8">
        <inertial>
            <origin xyz="0 0 0" rpy="0 0 0"/>
            <mass value="0"/>
            <inertia ixx="0.05" ixy="0.05" ixz="0.05" iyy="0.05" iyz="0.05" izz="0.05"/>
        </inertial>
        <visual>
            <origin xyz="0 0 0" rpy="0 0 0"/>
            <geometry>
                <box size="0.002 0.1111111111111111 0.1111111111111111"/>
            </geometry>
        </visual>
        <collision>
            <origin xyz="0 0 0" rpy="0 0 0"/>
            <geometry>
                <box size="0.002 0.1111111111111111 0.1111111111111111"/>
            </geometry>
        </collision>
    </link>
    <!-- Joint: body, body_face_front_8 -->
    <joint name="body_body_face_front_8_joint" type="fixed">
        <parent link="body"/>
        <child link="body_face_front_8"/>
        <origin xyz="0.501 0.33333333333333337 0.11111111111111116"
                rpy="0 0 0"/>
        <axis xyz="0 0 1"/>
        
    </joint>


</robot>
